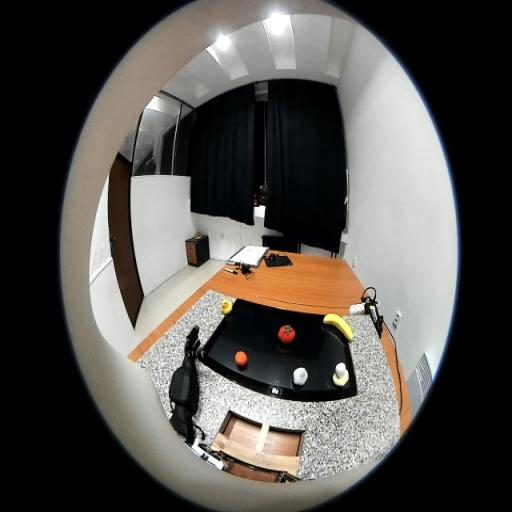Banana: (323, 312, 353, 341)
Duck: (221, 298, 233, 315)
LeftHand: (185, 340, 195, 360)
Mushroom: (333, 363, 349, 386)
Onion: (293, 367, 308, 385)
Orange: (235, 350, 247, 366)
Tomato: (278, 324, 296, 344)
